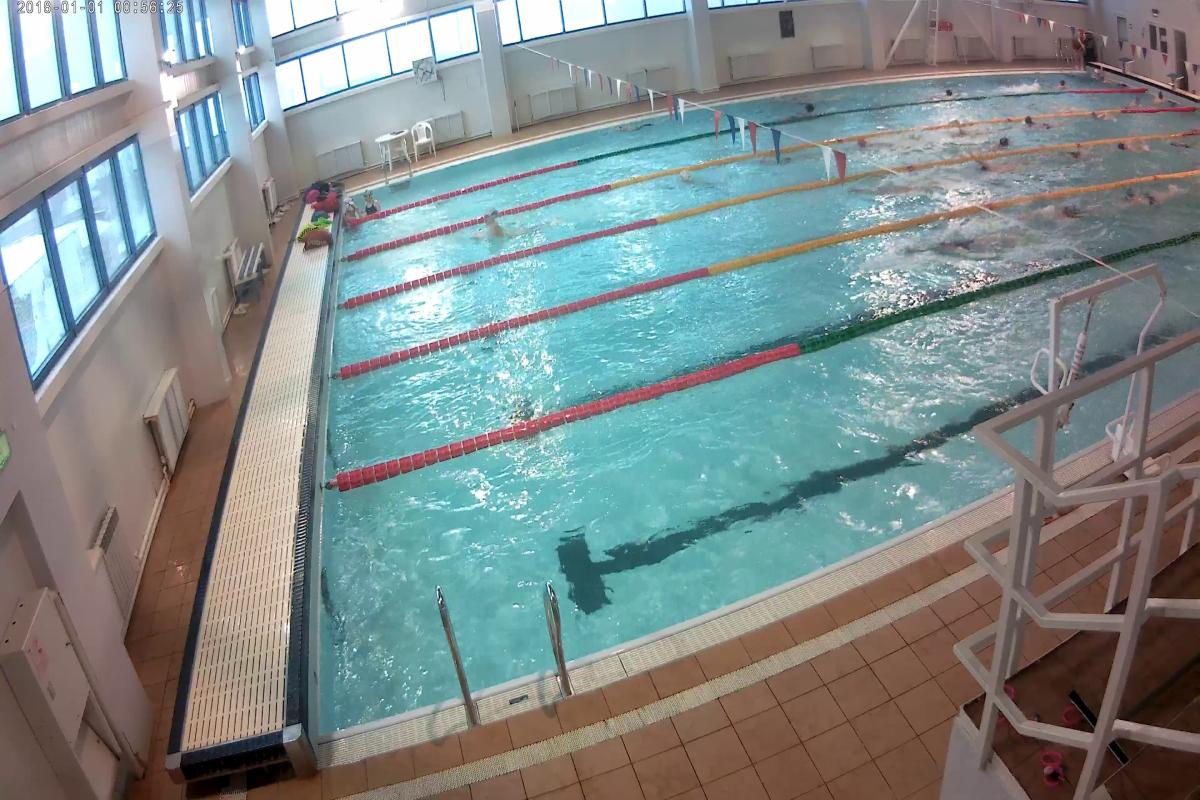swimmer: (1124, 174, 1192, 209), (481, 206, 507, 249), (1020, 116, 1074, 130), (1118, 134, 1154, 154), (981, 135, 1014, 151)
